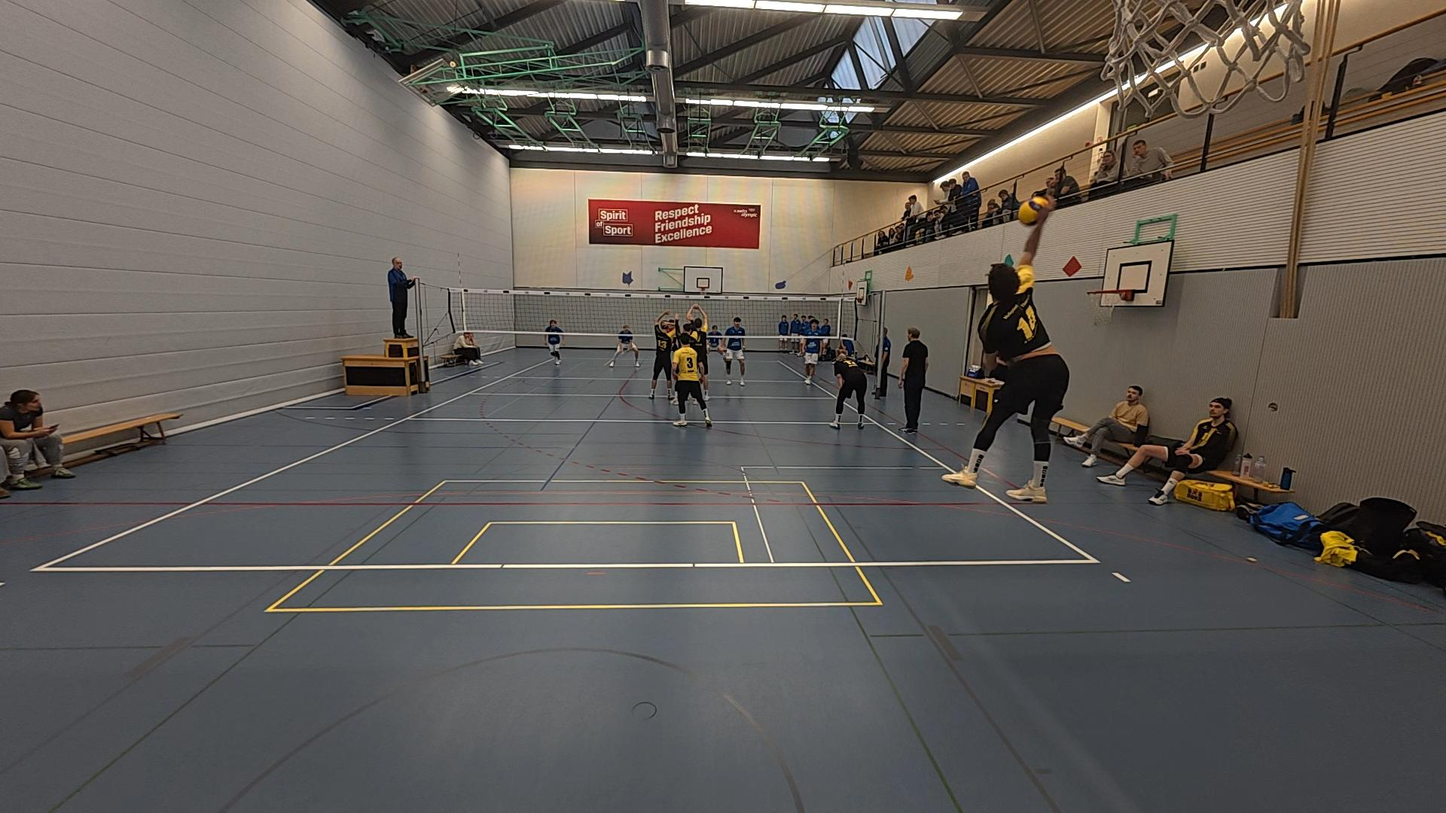battuta: (938, 207, 1072, 506)
